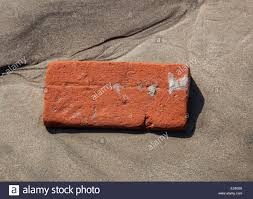brick: (48, 62, 186, 127)
